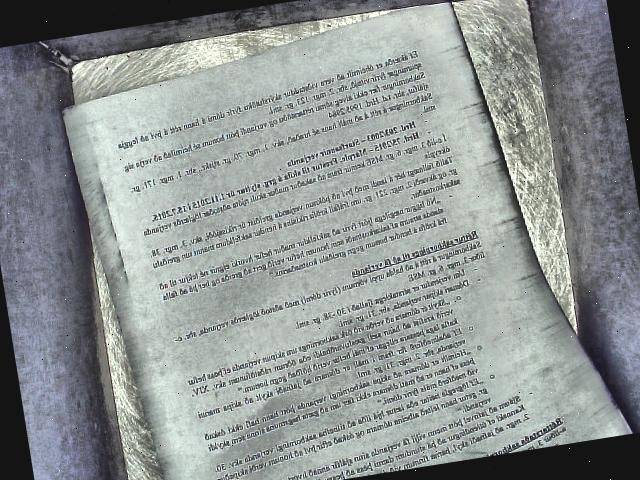Paper: (42, 0, 635, 480)
